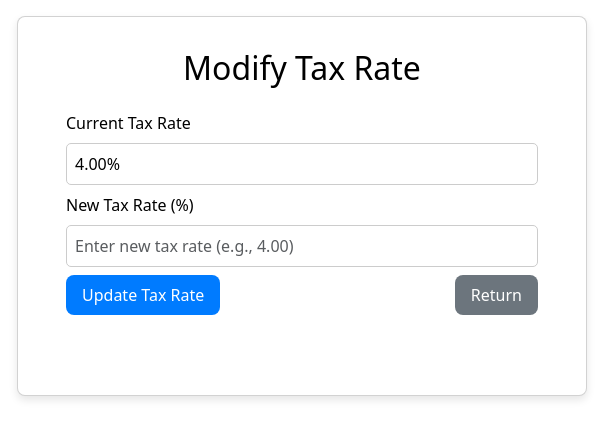
Scenario: ModifyTaxRateComponent › displays validation error for empty new tax rate
Expected: the field showing "4.00%" is shown, [66,143,538,185]
Note: Submit the form without entering a new rate
What coordinates should you click on to do the following:
click the button "Update Tax Rate"
I would click on:
 (143, 295)
Its box is [66,275,220,315].
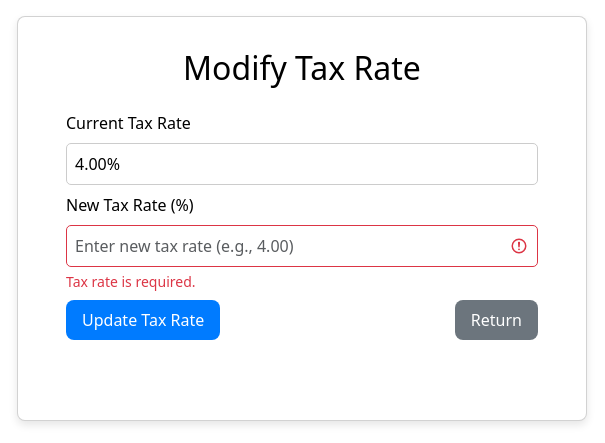
Expected: the text "Tax rate is required." is shown, [66,272,196,291]
